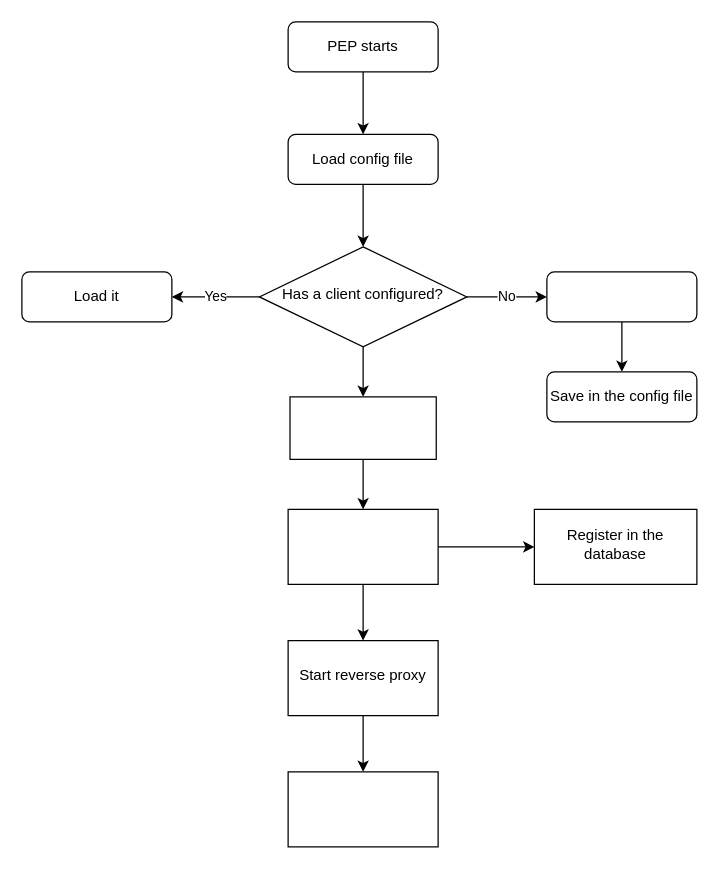
Some shapes in this 719 by 869 pixel diagram are drawn without their labels. Each missing label, with the centre of its shape:
Await requests: (x=362, y=809)
Create demo resource "ADES service" (if none present): (x=362, y=546)
Create OIDC and UMA clients: (x=362, y=427)
Register one using the SCIM client: (x=621, y=296)
